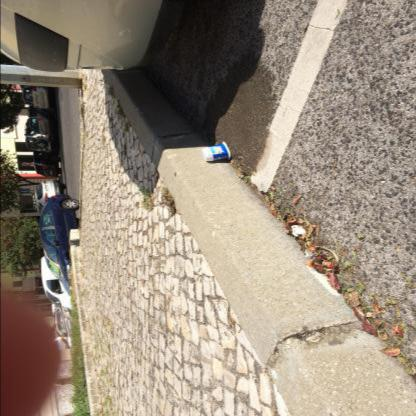Paper: (291, 225, 306, 236)
Plastic bag - wrapper: (302, 250, 314, 269)
Plastic container: (201, 142, 231, 161)
